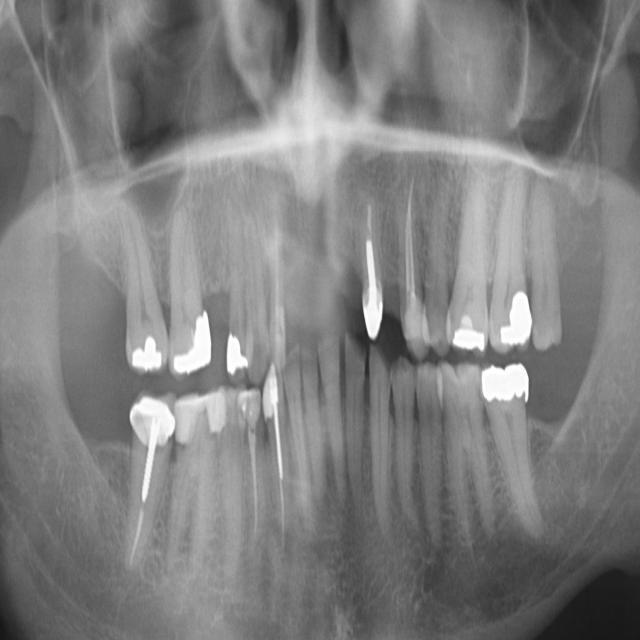infected-teeth: (110, 392, 177, 596), (399, 146, 431, 360), (261, 356, 292, 575), (236, 381, 264, 562), (360, 170, 384, 339)
